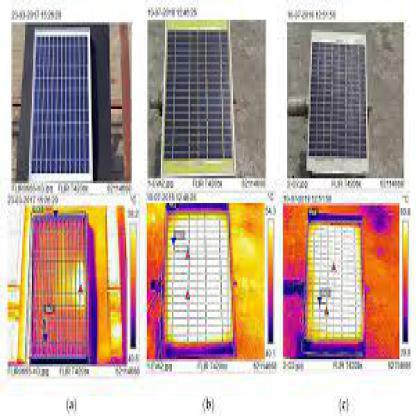Defects: (76, 256, 86, 310)
